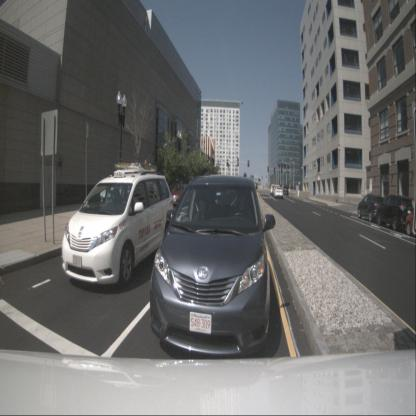human-pedestrian-adult: (254, 179, 258, 194)
vehicle-car: (150, 176, 270, 362), (62, 170, 173, 288), (100, 168, 155, 214), (377, 195, 414, 231), (357, 194, 385, 223), (170, 184, 191, 206), (404, 207, 416, 236), (274, 186, 284, 198), (280, 185, 289, 195), (272, 185, 280, 196), (270, 184, 276, 195)
